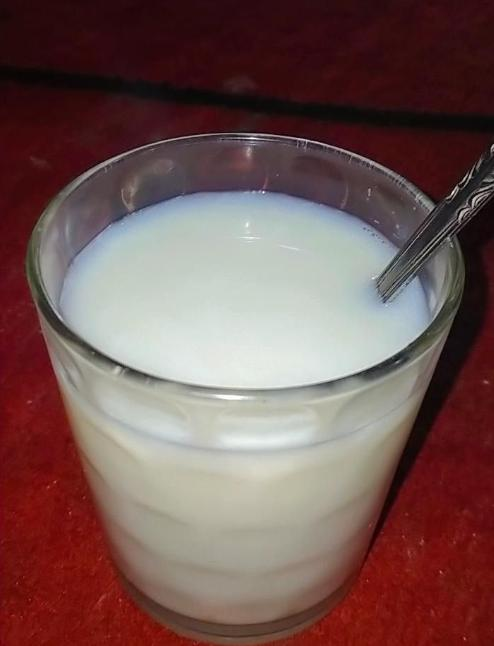produk_susu: (44, 154, 454, 609)
